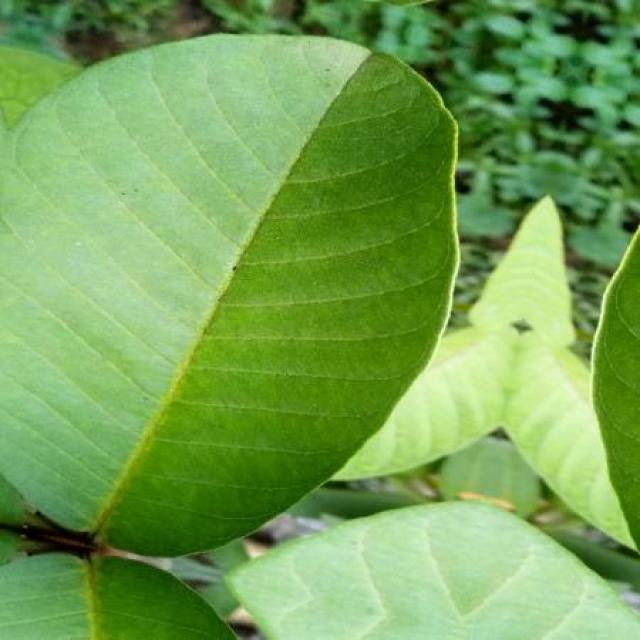Disease Free: (0, 36, 458, 639), (229, 199, 640, 640)
